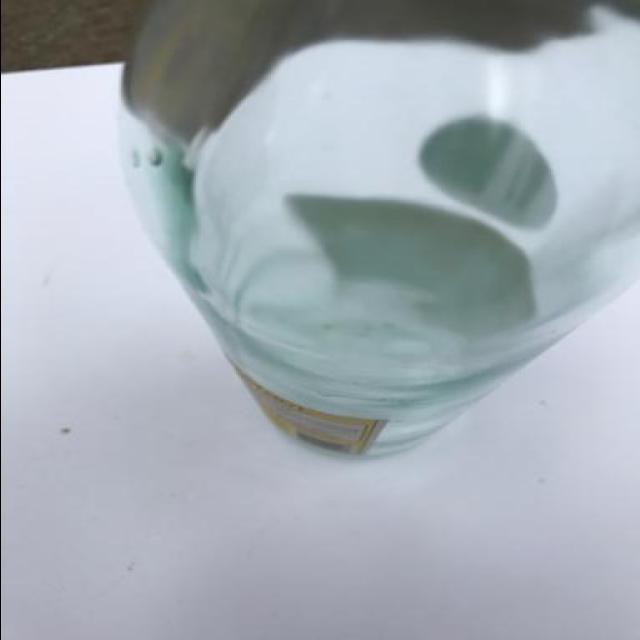litter: (108, 0, 634, 465)
